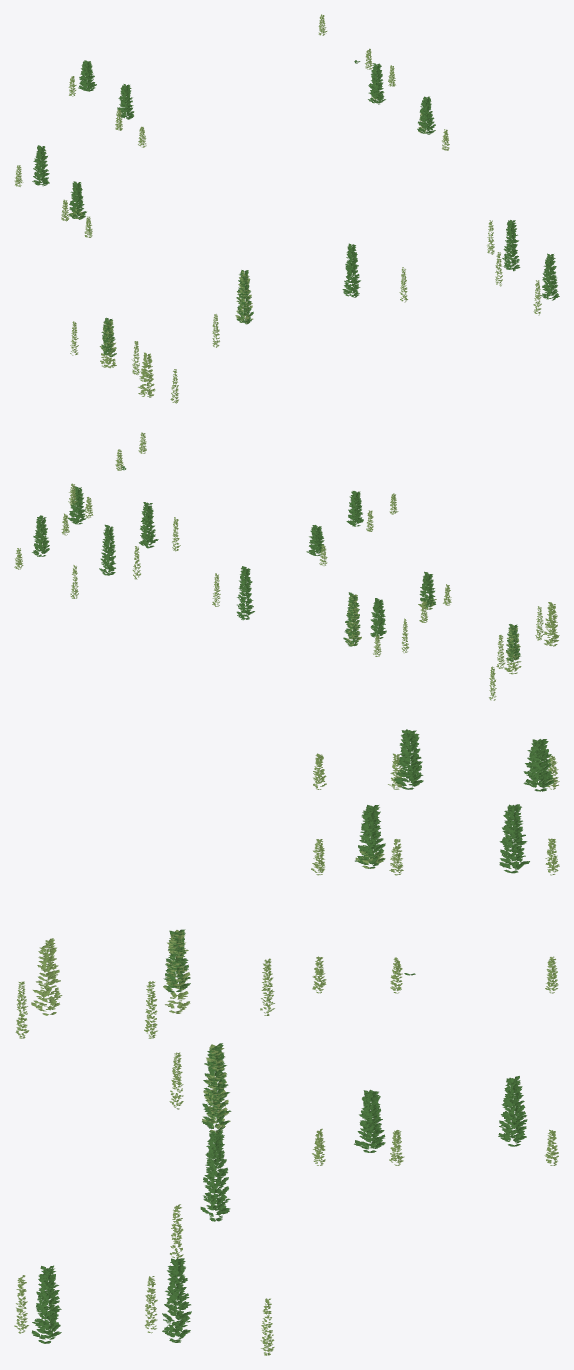
The model's file is Catalog-31.glb.
3 views of the same model, one above another, from view 1: azimuth 30°, elevation 25°; view 2: azimuth 150°, elevation 25°; view 3: azimuth 270°, elevation 25° (orthographic). The views are drawn at different scales.
Visible parts, largest first — view 1: Royal Garden Deep Leaves, Royal Garden New Leaves; view 2: Royal Garden Deep Leaves, Royal Garden New Leaves; view 3: Royal Garden Deep Leaves, Royal Garden New Leaves.
Boxes of the visible parts, x1,y1,x2,y2 form: Royal Garden Deep Leaves: (32,60,559,356); Royal Garden New Leaves: (14,14,541,403); Royal Garden Deep Leaves: (32,466,520,661); Royal Garden New Leaves: (14,432,559,700); Royal Garden Deep Leaves: (31,729,553,1343); Royal Garden New Leaves: (14,753,559,1355).
Size of the model in its own units: 63.19 by 30.85 by 42.22.
